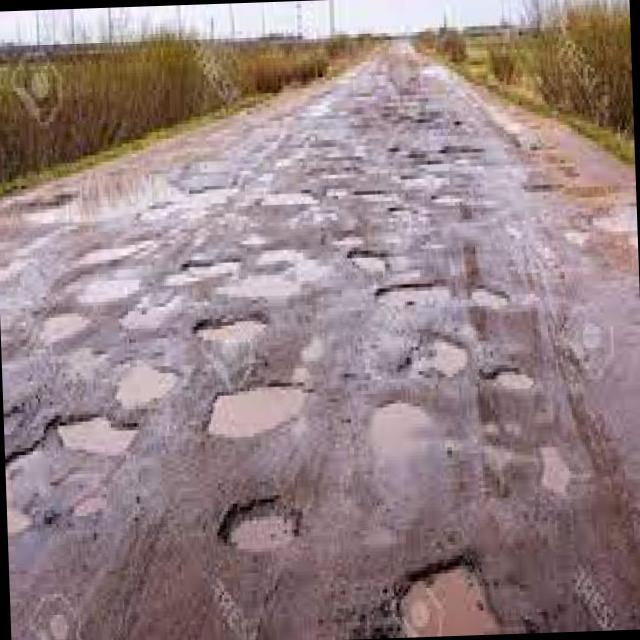Pothole: (31, 177, 191, 220), (42, 420, 132, 488), (388, 579, 471, 638), (222, 389, 300, 432), (330, 229, 389, 275), (371, 406, 425, 452), (7, 451, 32, 532), (224, 512, 287, 542), (198, 317, 261, 346), (123, 296, 156, 327), (469, 284, 509, 309), (128, 370, 161, 398), (69, 274, 120, 292), (182, 259, 215, 284), (496, 367, 535, 388), (42, 316, 77, 338), (257, 267, 288, 291), (400, 286, 437, 304), (264, 193, 310, 207), (435, 349, 464, 370), (541, 464, 562, 492)
